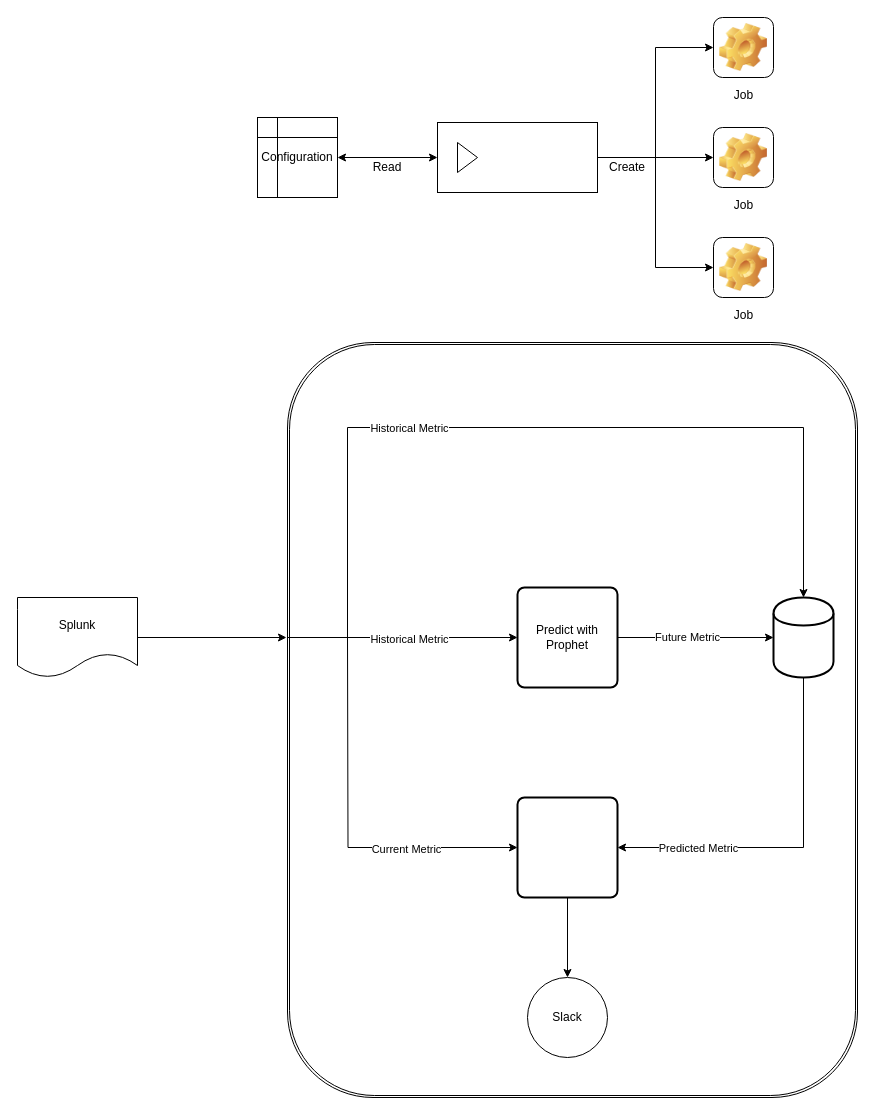
Some shapes in this 875 by 1115 pixel diagram are drawn without their labels. Here are the shapes that lost their labels. From the top down, the box of each, then its label:
(436, 122, 598, 192): Scheduler
(772, 596, 834, 678): InfluxDB
(516, 796, 618, 898): Compare
